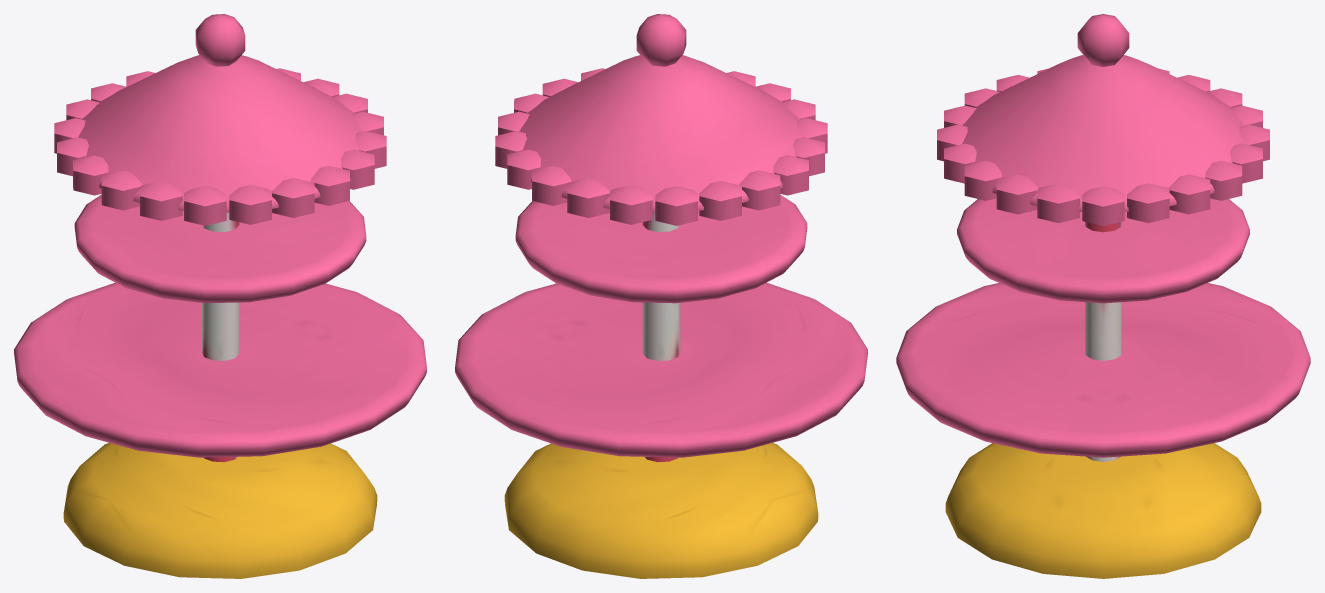
The model's file is CupcakeCarousel.glb.
3 views of the same model, side by side, from view 1: azimuth 30°, elevation 25°; view 2: azimuth 150°, elevation 25°; view 3: azimuth 270°, elevation 25° (orthographic).
Visible parts, largest first — view 1: Spin, Base, Pole; view 2: Spin, Base, Pole; view 3: Spin, Base, Pole.
Boxes of the visible parts, box(x1,y1,x2,y2) form: Spin: box(14, 14, 426, 457); Base: box(63, 442, 377, 578); Pole: box(201, 212, 239, 462); Spin: box(455, 14, 867, 457); Base: box(504, 442, 818, 578); Pole: box(642, 212, 680, 462); Spin: box(896, 14, 1310, 457); Base: box(945, 443, 1261, 578); Pole: box(1085, 222, 1121, 461).
Bounding box in the file's own units: 6.14 × 8.15 × 6.14.
3 materials, 3 textured.
